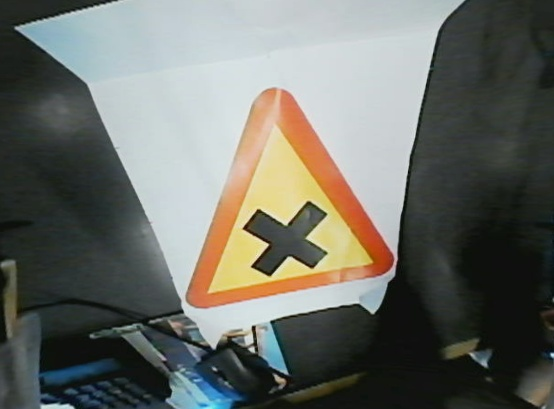junction: (177, 89, 410, 309)
